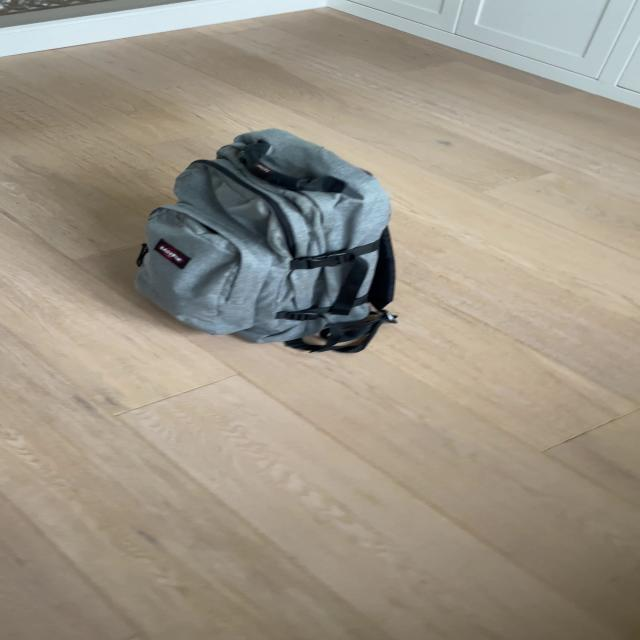backpack: (123, 119, 407, 356)
